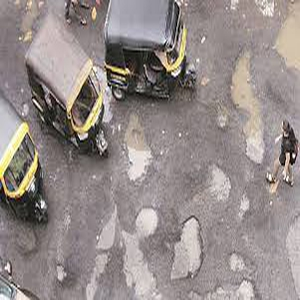pothole: (229, 45, 268, 164), (166, 213, 206, 287), (120, 114, 155, 184), (133, 204, 159, 236)
